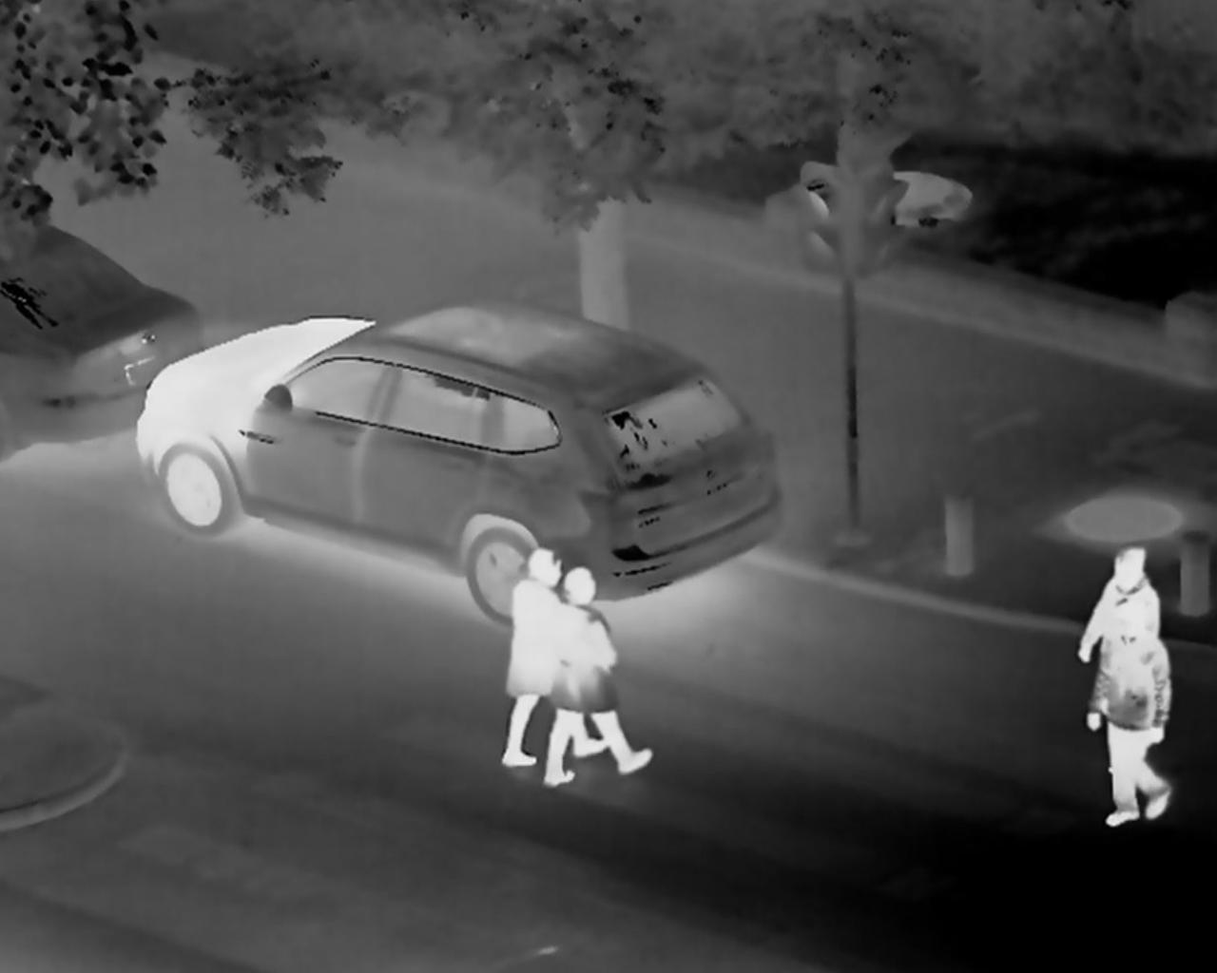person: (552, 573, 646, 792), (1098, 611, 1179, 828), (515, 540, 542, 757), (1094, 534, 1151, 610)
